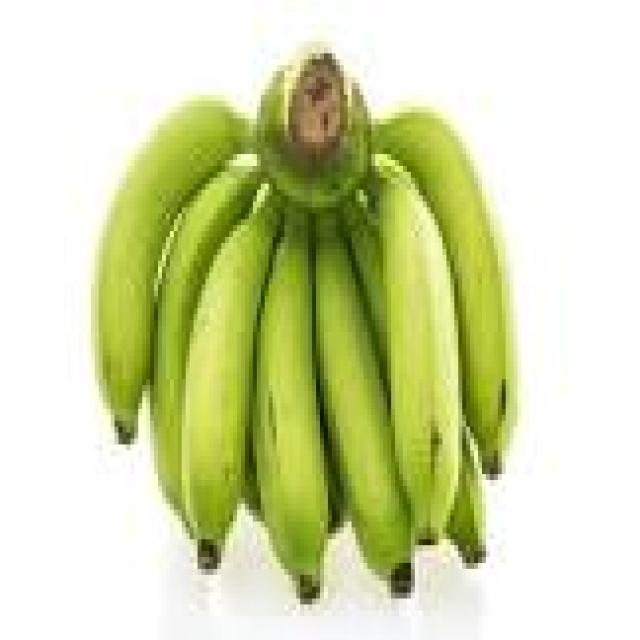banana: (91, 101, 248, 444), (376, 107, 517, 474), (151, 166, 260, 515), (182, 190, 280, 568), (317, 220, 410, 592), (372, 160, 462, 539), (253, 214, 327, 604), (257, 48, 371, 213), (344, 196, 387, 379), (447, 427, 485, 568)
